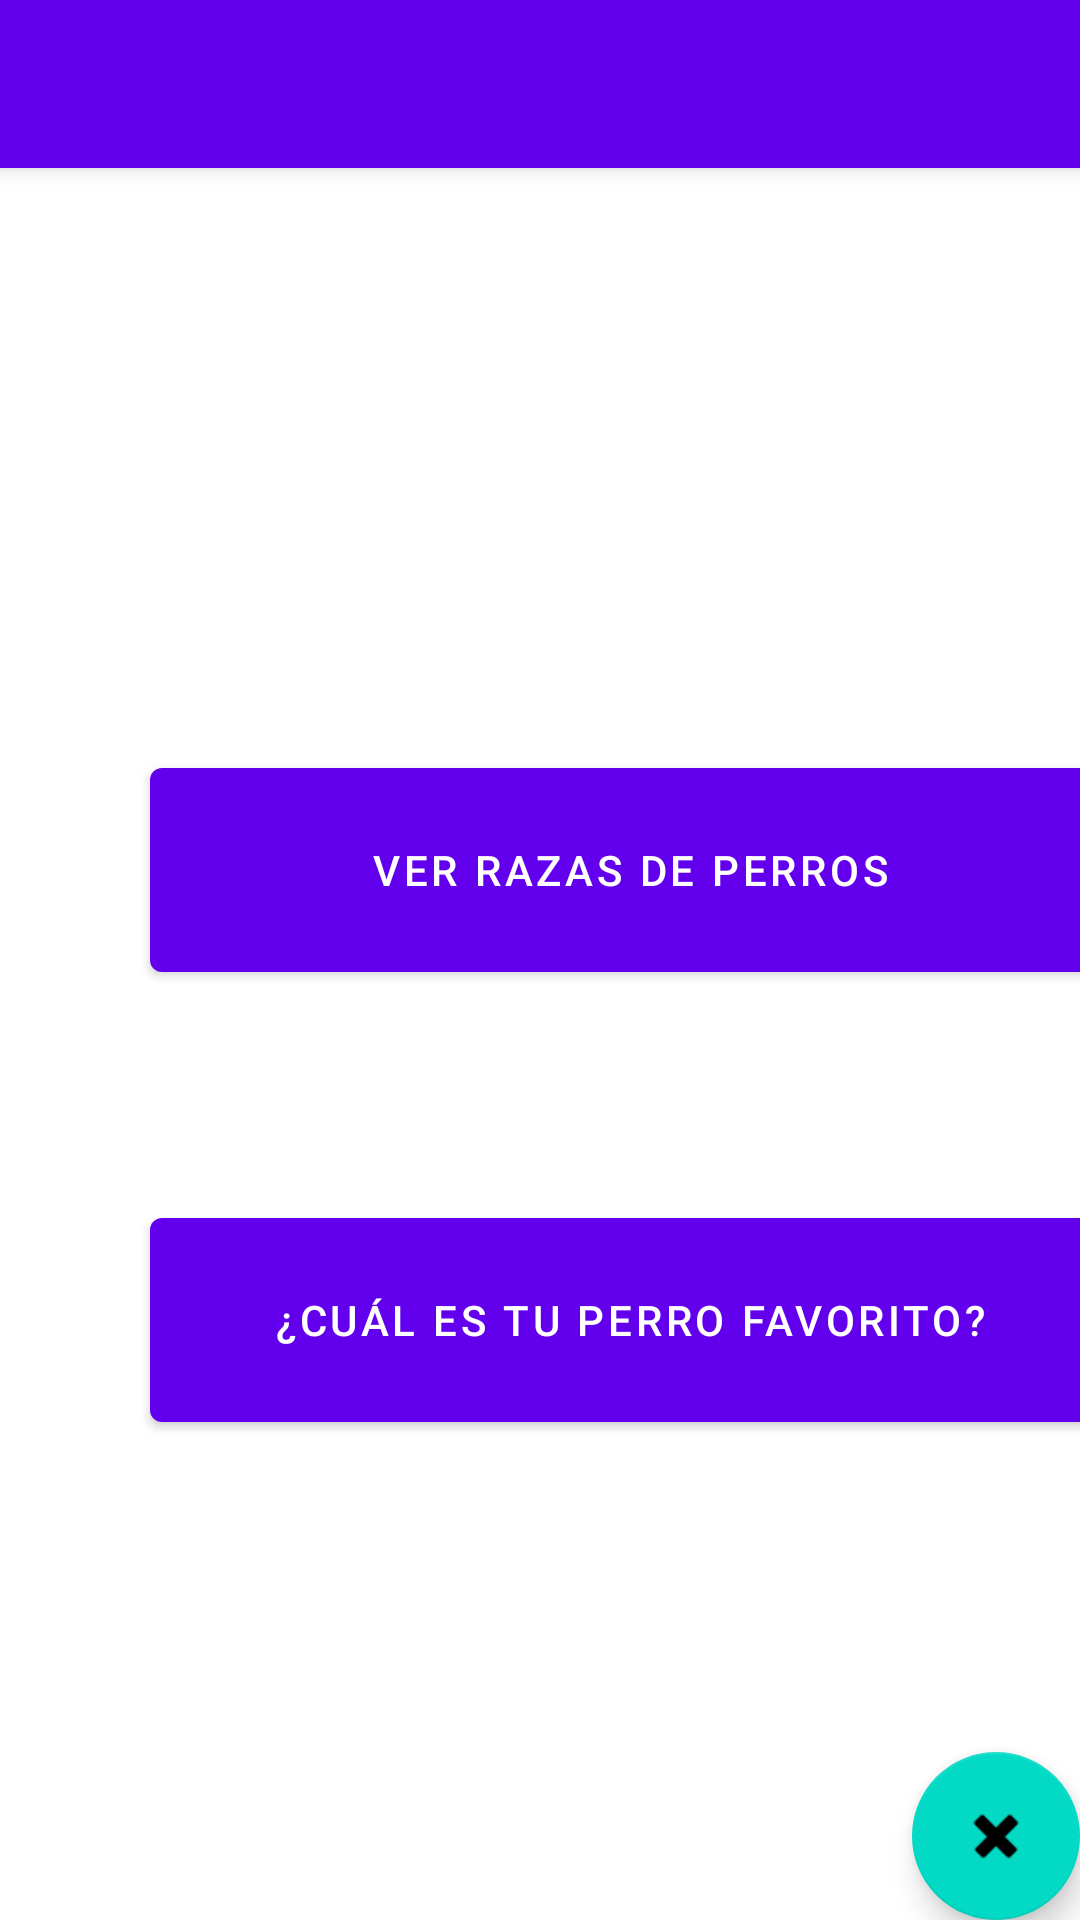

Named icons in this screenshot (1080x1920) and their centers, point (x, y):
delete: point (996, 1836)
